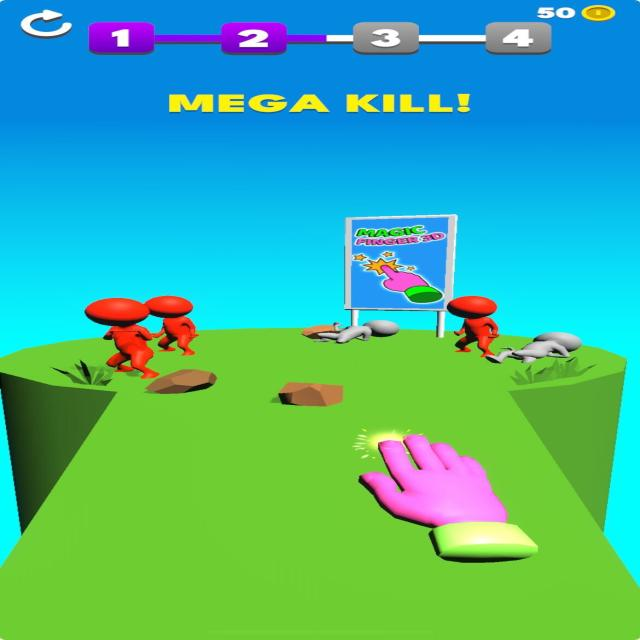billboard: (346, 216, 459, 312)
